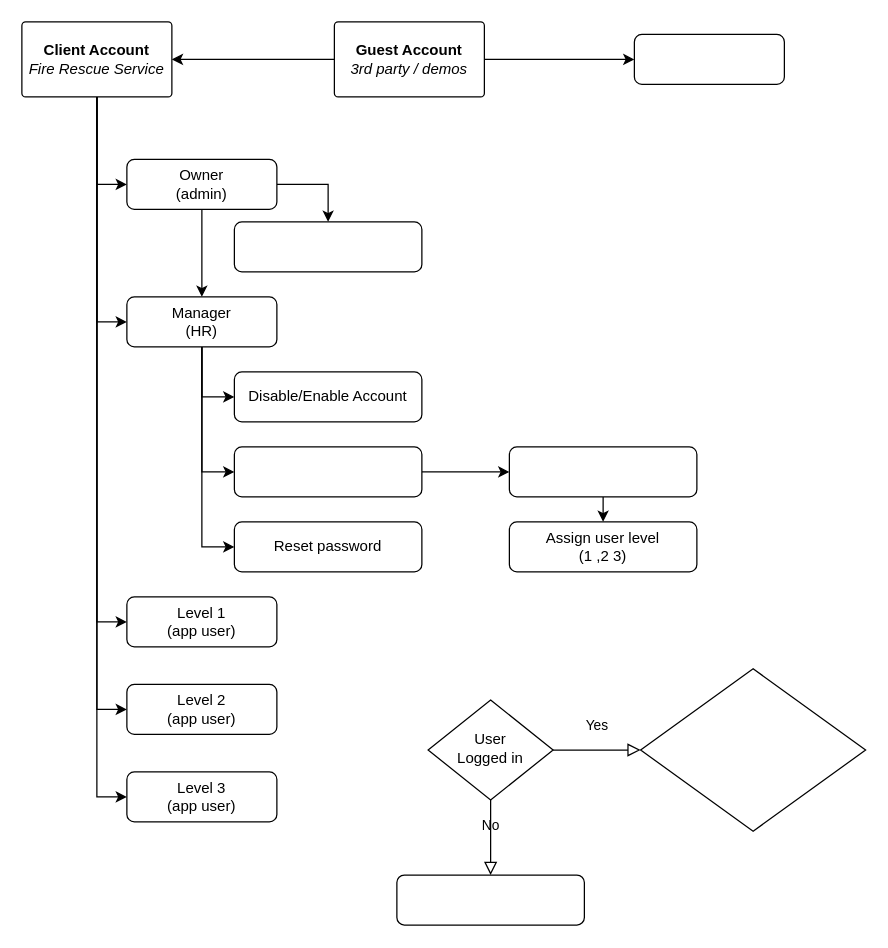
This 888x948 diagram has some shape labels left out. The shapes that lost their labels are listed below. From the top down, each one's box as (x1, y1, x2, y2) in pixels, then its label:
(633, 33, 784, 84): Viewer (read only)
(233, 221, 422, 272): Remove Account
(233, 446, 422, 497): Create Account
(508, 446, 697, 497): Set password
(639, 668, 866, 831): Homescreen Component views based on role
(396, 874, 584, 925): Redirect to login page
